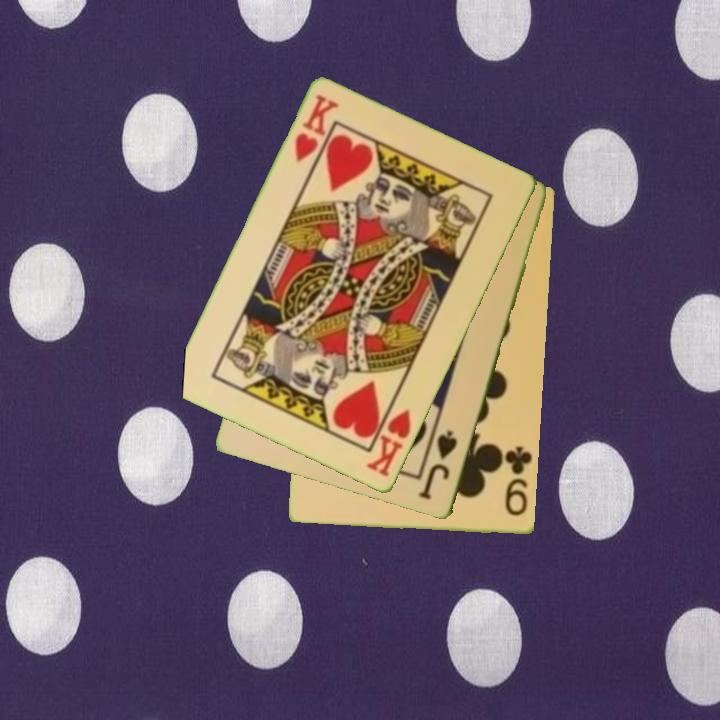9c: (502, 443, 535, 519)
Js: (418, 427, 461, 503)
Kh: (362, 396, 414, 481), (291, 91, 342, 166)
